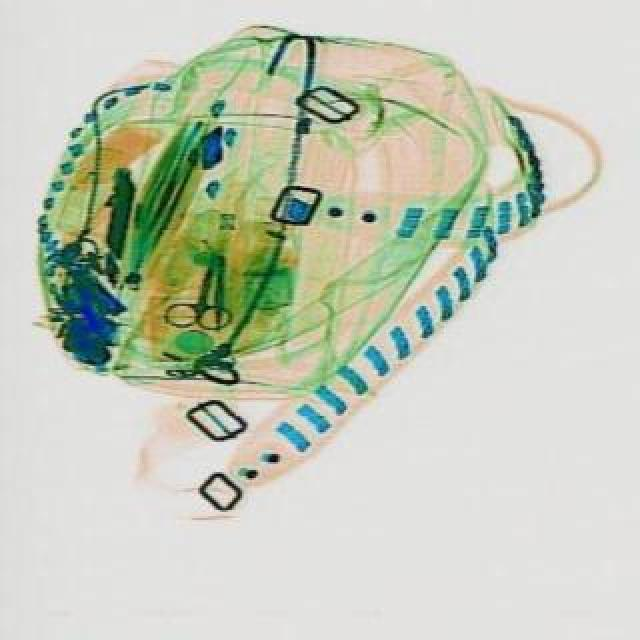pliers: (162, 260, 242, 336)
